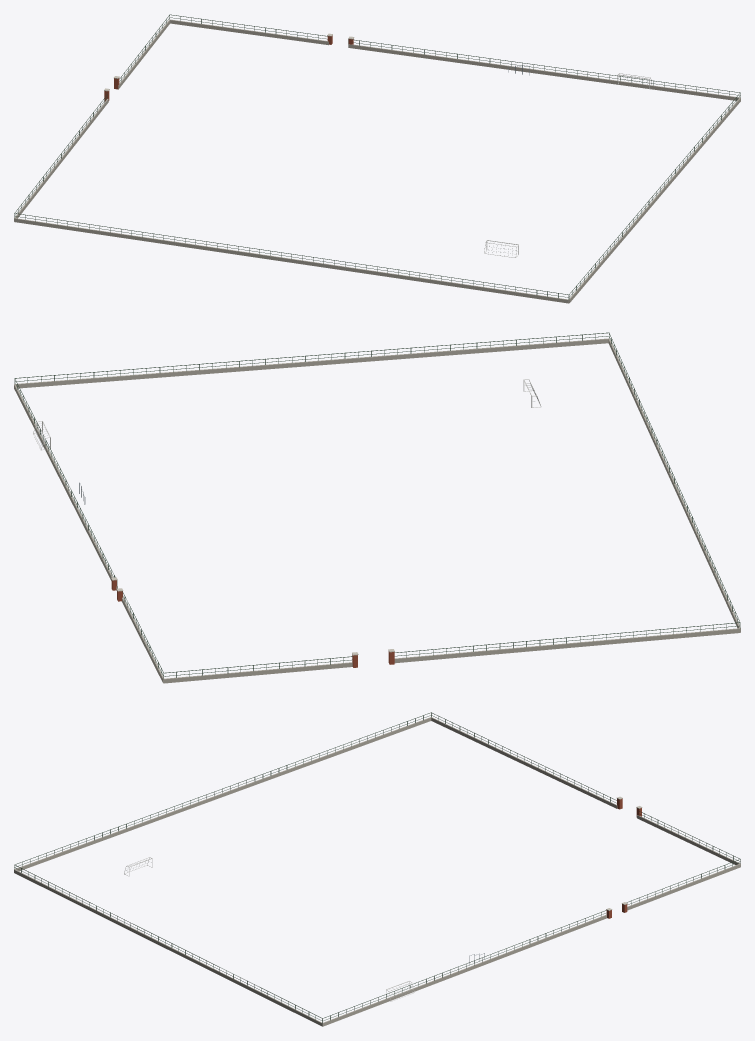
The picture shows the model from 3 angles, top to bottom: view 1: azimuth 30°, elevation 25°; view 2: azimuth 150°, elevation 25°; view 3: azimuth 270°, elevation 25°; orthographic projection. The views are drawn at different scales.
Visible parts, largest first — view 1: site-wall-concrete, site-fence; view 2: site-wall-concrete, site-fence; view 3: site-wall-concrete, site-fence.
Part boxes in pixels (x1=…): site-wall-concrete: x1=14, y1=19, x2=740, y2=303; site-fence: x1=14, y1=14, x2=740, y2=299; site-wall-concrete: x1=14, y1=338, x2=740, y2=683; site-fence: x1=14, y1=332, x2=740, y2=678; site-wall-concrete: x1=14, y1=717, x2=740, y2=1026; site-fence: x1=14, y1=712, x2=740, y2=1023.
Bounding box in the file's own units: 171 × 2.85 × 171.
